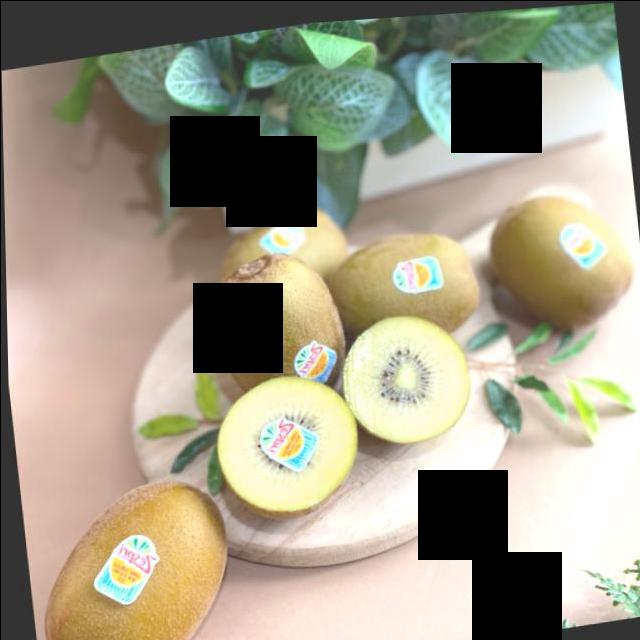kiwi: (27, 449, 245, 640), (478, 149, 640, 349), (327, 186, 483, 361), (200, 235, 347, 400), (219, 193, 341, 276)
